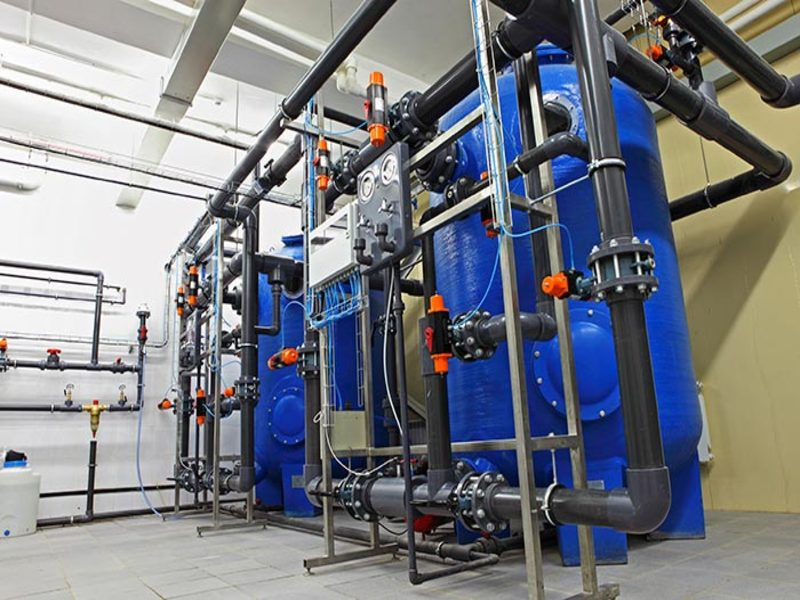valve: (131, 322, 148, 352)
